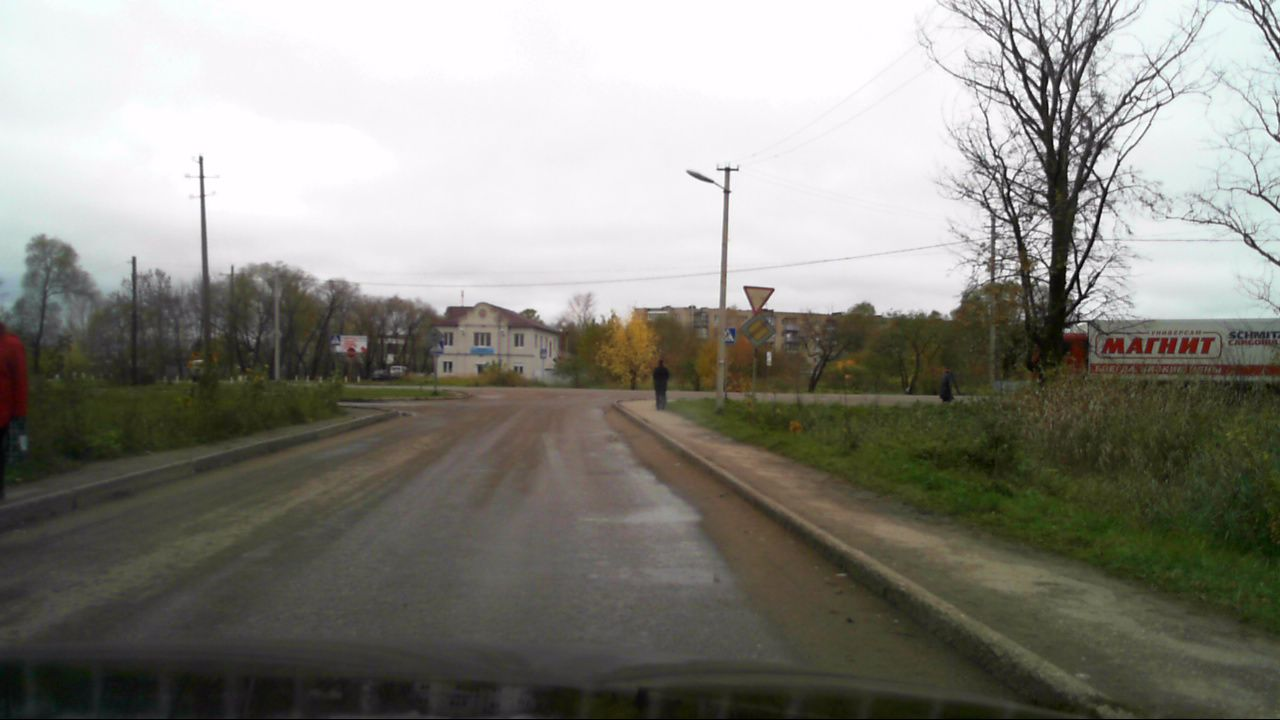main road: (740, 315, 775, 348)
